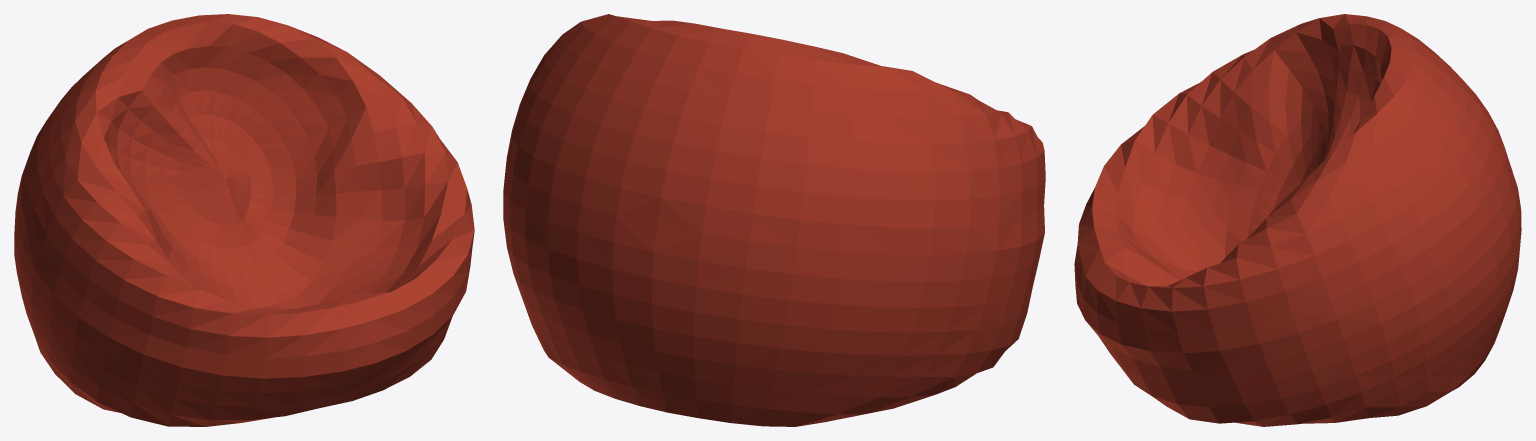
File: chair.glb
The picture shows the model from 3 angles, left to right: view 1: azimuth 30°, elevation 25°; view 2: azimuth 150°, elevation 25°; view 3: azimuth 270°, elevation 25°; orthographic projection. The views are drawn at different scales.
Parts seen in each view (by area): view 1: Node; view 2: Node; view 3: Node.
Part boxes in pixels (<box>): Node: <box>14,14,474,426</box>; Node: <box>503,14,1045,426</box>; Node: <box>1074,14,1521,426</box>.
Size of the model in its own units: 42.01 by 29.75 by 40.46.
